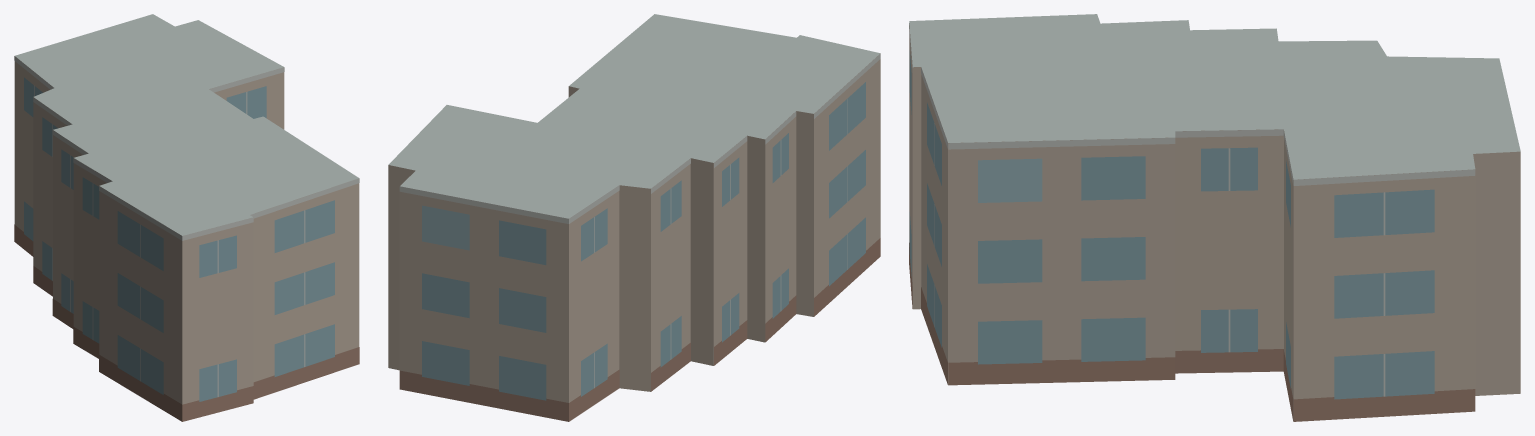
File: survey-upis-32481567.glb
The picture shows the model from 3 angles, left to right: view 1: azimuth 30°, elevation 25°; view 2: azimuth 150°, elevation 25°; view 3: azimuth 270°, elevation 25°; orthographic projection. The views are drawn at different scales.
Parts seen in each view (by area): view 1: survey-upis-32481567.tmp; view 2: survey-upis-32481567.tmp; view 3: survey-upis-32481567.tmp.
Part boxes in pixels (<box>): survey-upis-32481567.tmp: <box>14,14,359,421</box>; survey-upis-32481567.tmp: <box>388,14,880,421</box>; survey-upis-32481567.tmp: <box>909,14,1520,421</box>.
Size of the model in its own units: 13.43 by 9.15 by 20.95.
